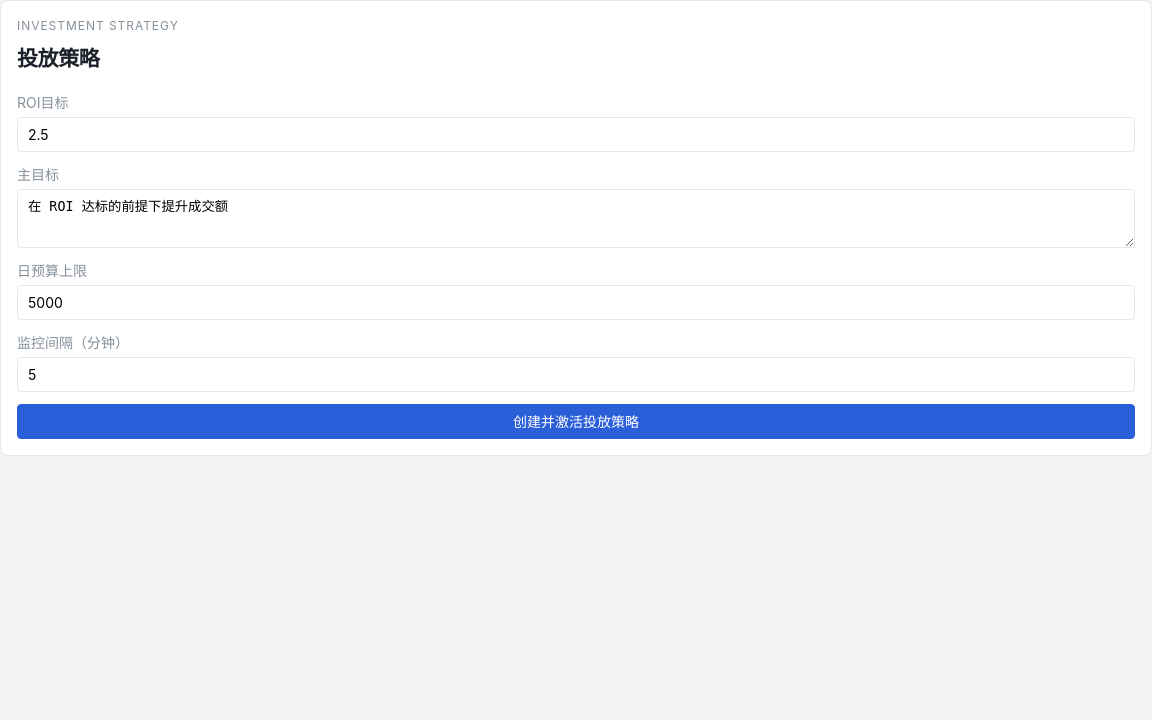
Test: investment strategy panel creates an active strategy
Click the button "创建并激活投放策略" at (576, 421), box [17,404,1135,439]
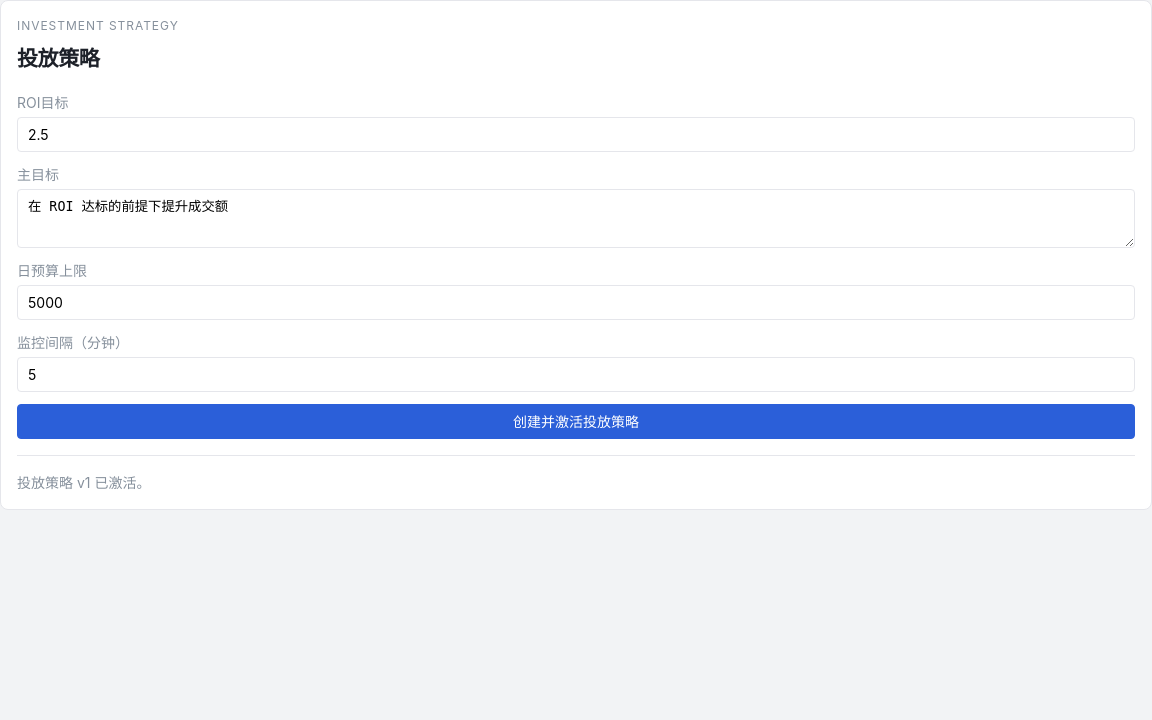
Expected: the number field labelled "ROI目标" holds "2.5", [17,117,1135,152]
Expected: the text "投放策略 v1 已激活。" is shown, [17,455,1135,493]
